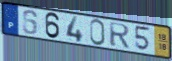0: (89, 18, 106, 47)
4: (65, 15, 85, 44)
5: (134, 24, 152, 53)
6: (44, 11, 61, 40), (22, 9, 39, 36)
R: (108, 21, 132, 50)
